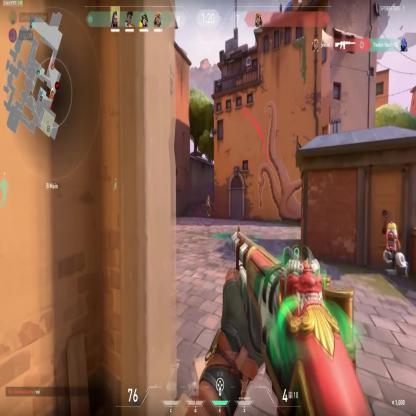enemy: (205, 194, 212, 217)
enemy_head: (208, 195, 210, 199)
